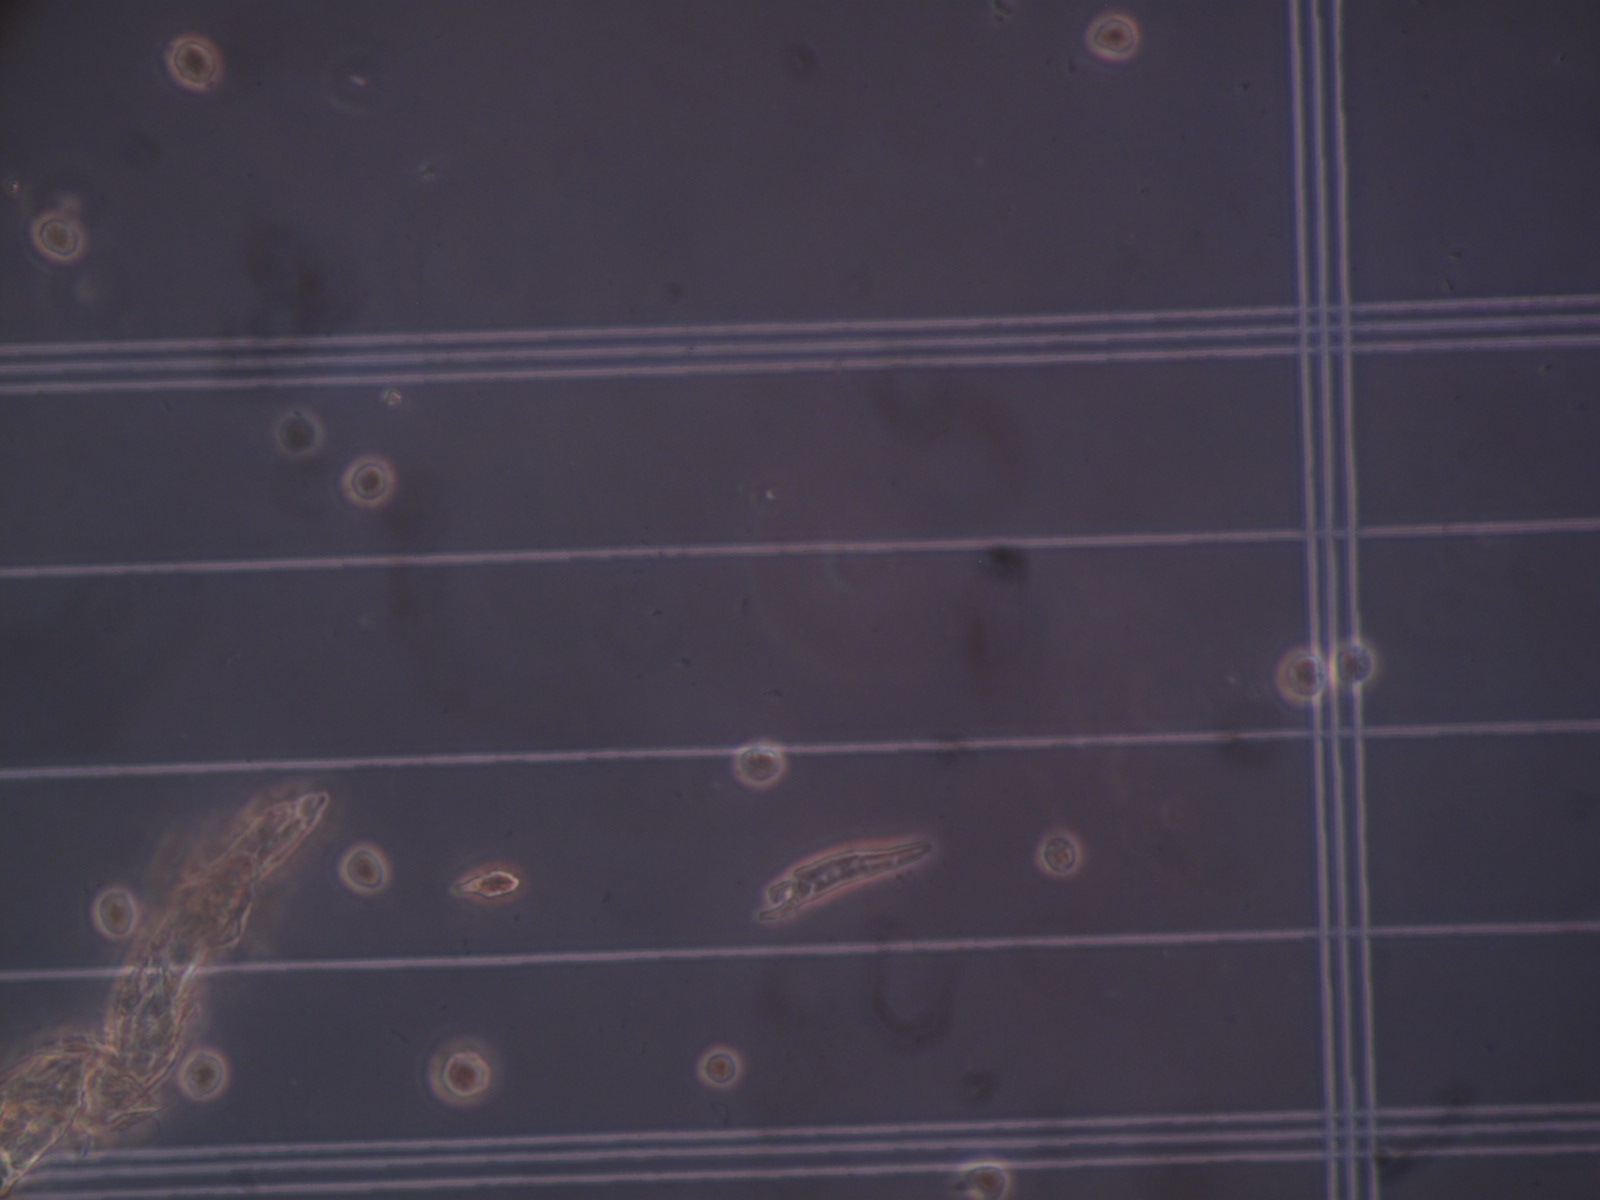hemo: (428, 1037, 503, 1108), (454, 861, 528, 908), (164, 37, 223, 89), (339, 841, 392, 899), (341, 455, 396, 509), (1276, 647, 1327, 703), (1085, 13, 1140, 61), (178, 1050, 229, 1100), (732, 742, 786, 790), (1330, 640, 1382, 689), (31, 214, 84, 261), (275, 410, 324, 458), (1036, 829, 1083, 879), (93, 886, 139, 937), (956, 1160, 1012, 1200), (695, 1046, 741, 1088)
